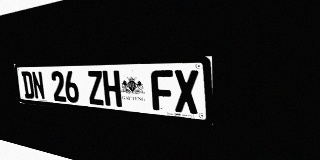2: (51, 71, 66, 102)
6: (63, 71, 80, 103)
D: (21, 71, 35, 99)
F: (151, 70, 174, 112)
H: (102, 70, 122, 107)
N: (31, 71, 45, 100)
X: (173, 70, 199, 114)
Z: (86, 71, 105, 105)
